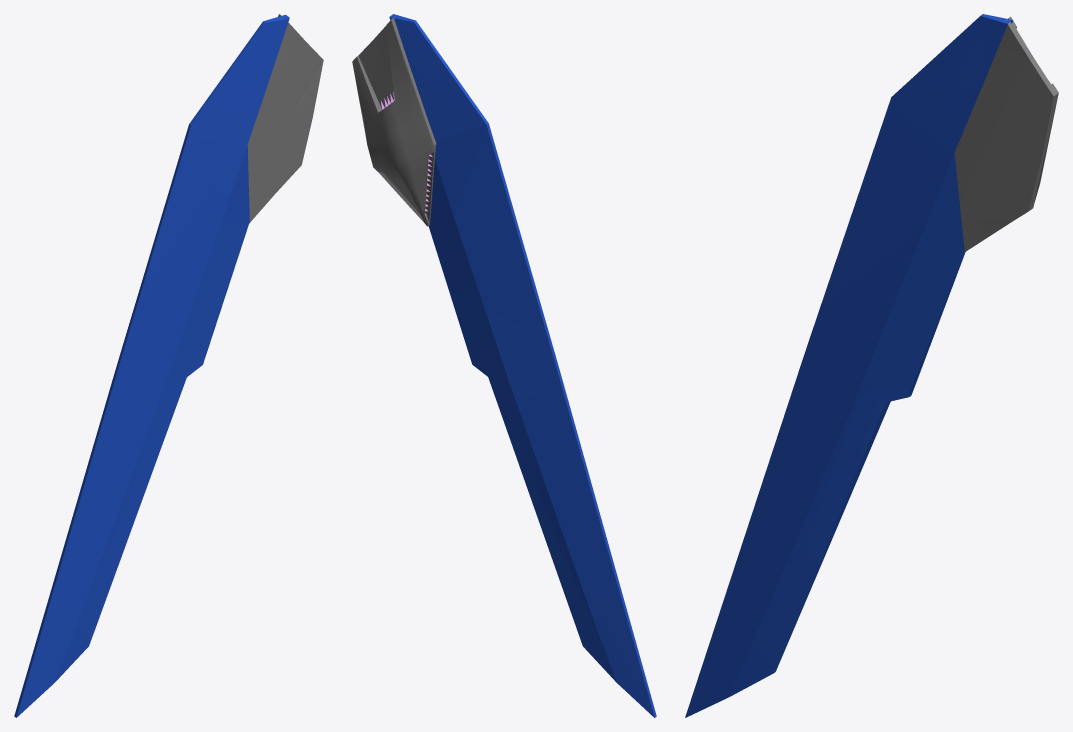
Rendered from leftOutsideBigWing.obj.
3 views of the same model, side by side, from view 1: azimuth 30°, elevation 25°; view 2: azimuth 150°, elevation 25°; view 3: azimuth 330°, elevation 25° (orthographic). The views are drawn at different scales.
Visible parts, largest first — view 1: leftOutsideBigWing freedom:ChafCaja1288, leftOutsideBigWing freedom:ChafCaja1293; view 2: leftOutsideBigWing freedom:ChafCaja1288, leftOutsideBigWing freedom:ChafCaja1293; view 3: leftOutsideBigWing freedom:ChafCaja1288, leftOutsideBigWing freedom:ChafCaja1293.
Part boxes in pixels (bbox=[...]): leftOutsideBigWing freedom:ChafCaja1288: bbox=[14, 14, 289, 717]; leftOutsideBigWing freedom:ChafCaja1293: bbox=[247, 14, 323, 223]; leftOutsideBigWing freedom:ChafCaja1288: bbox=[389, 14, 656, 717]; leftOutsideBigWing freedom:ChafCaja1293: bbox=[352, 16, 436, 226]; leftOutsideBigWing freedom:ChafCaja1288: bbox=[685, 14, 1012, 717]; leftOutsideBigWing freedom:ChafCaja1293: bbox=[954, 16, 1058, 252].
Bounding box in the file's own units: 60.48 × 121 × 4.68.
